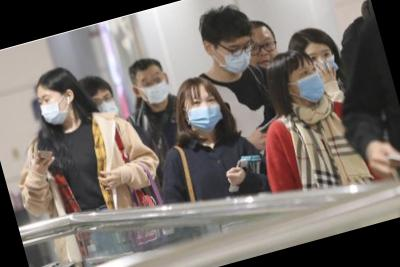with_mask: (182, 92, 227, 136), (214, 37, 260, 79), (291, 59, 330, 107), (35, 88, 74, 131), (137, 67, 174, 109), (307, 46, 340, 79), (93, 91, 122, 124)
without_mask: (244, 33, 283, 75)
